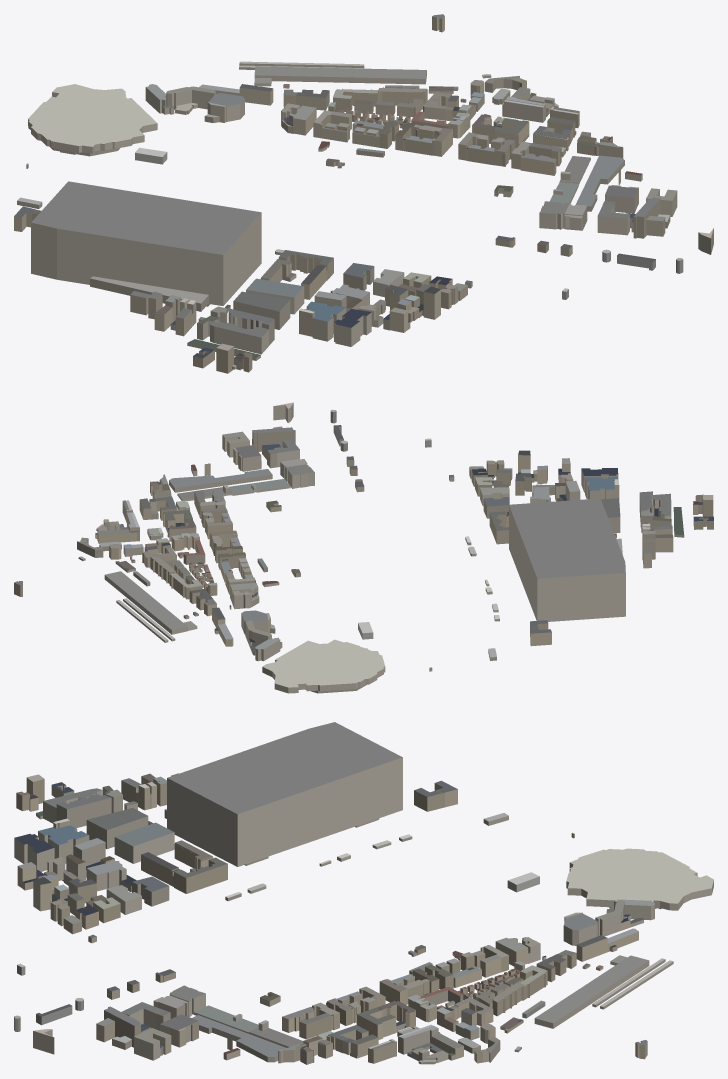
The picture shows the model from 3 angles, top to bottom: view 1: azimuth 30°, elevation 25°; view 2: azimuth 150°, elevation 25°; view 3: azimuth 270°, elevation 25°; orthographic projection. The views are drawn at different scales.
Visible parts, largest first — view 1: tuile; view 2: tuile; view 3: tuile.
Part boxes in pixels (box(x1,y1,x2,y2)): tuile: box(14, 14, 713, 373); tuile: box(14, 402, 713, 693); tuile: box(14, 722, 713, 1064).
Bounding box in the file's own units: 1076 × 116 × 1111.
